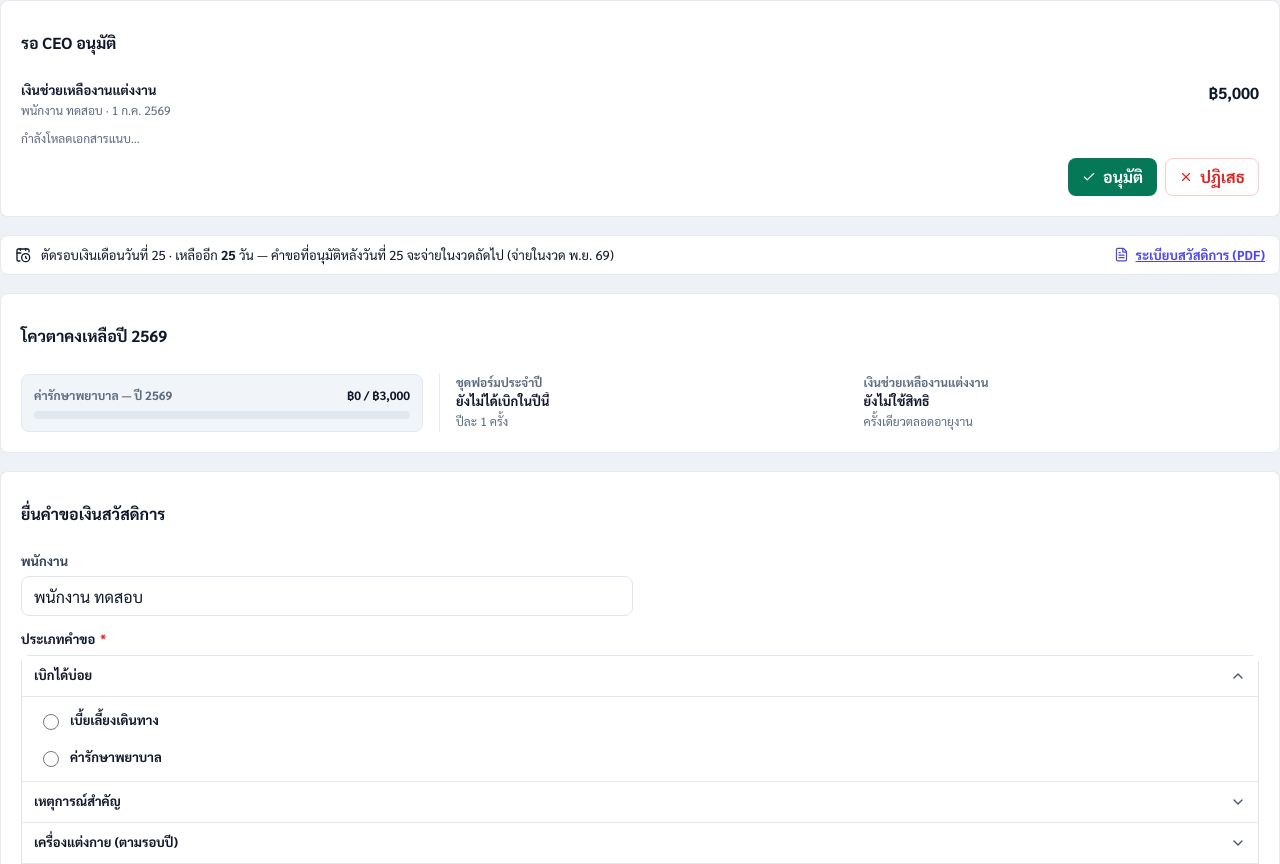
Test: SpecialMoneyPanel › CEO approve dialog › keeps the dialog open with the server error inline on a refused approval, clears it on edit, and succeeds on retry
Click the button with aria-label "CEO อนุมัติ" at (1113, 177), box [1068, 158, 1157, 196]
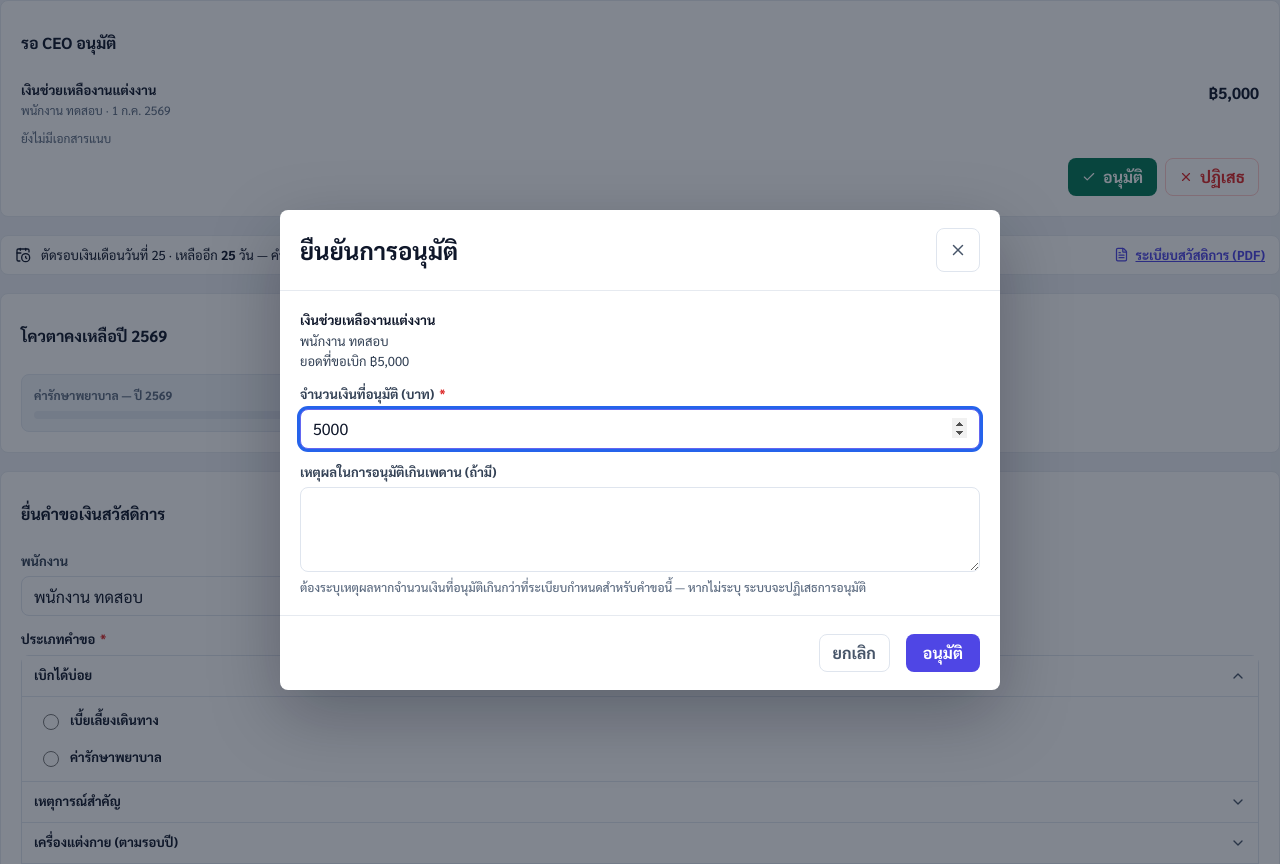
Click the button "อนุมัติ" at (943, 653), box [906, 634, 980, 672]
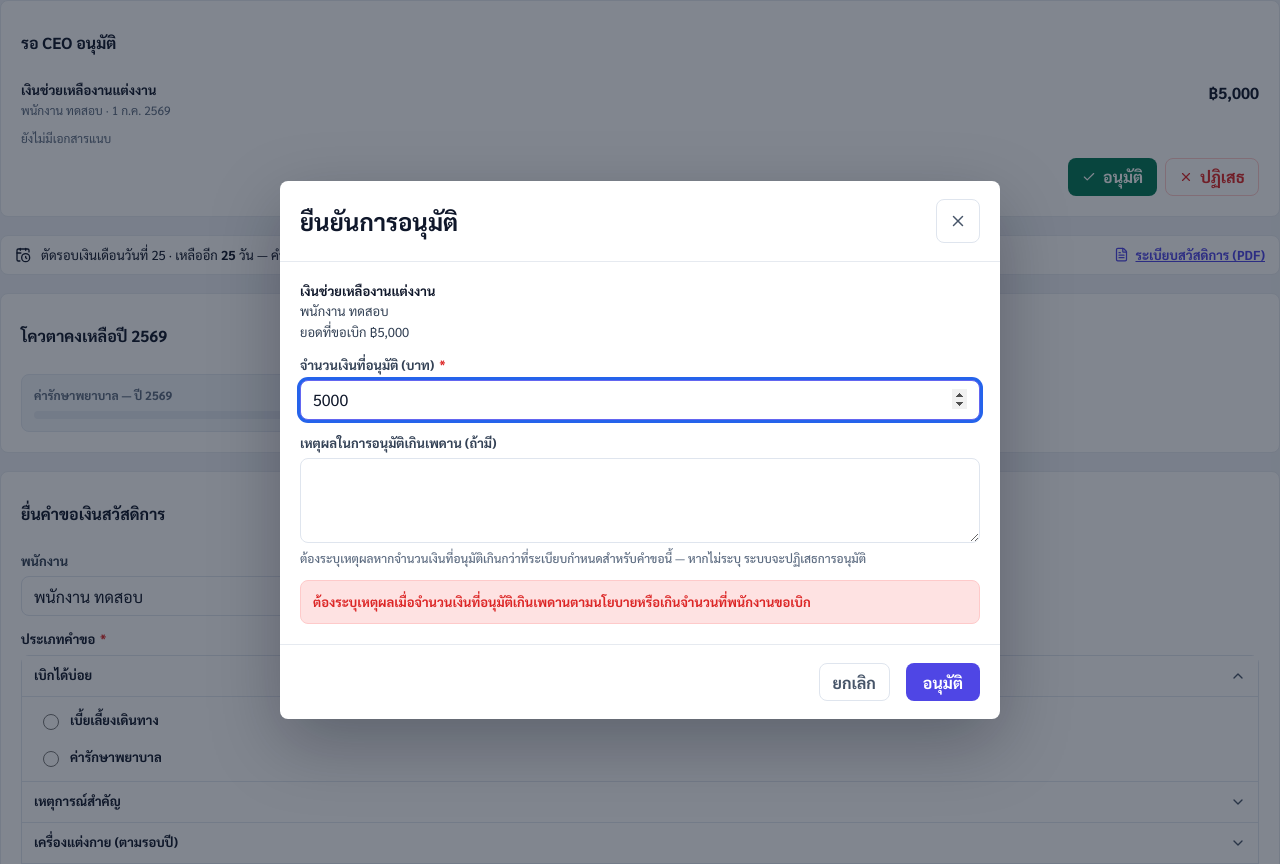
Expected: the number field labelled "จำนวนเงินที่อนุมัติ (บาท) *" holds "5000", [300, 380, 980, 420]
Expected: the text "ต้องระบุเหตุผลเมื่อจำนวนเงินที่อนุมัติเกินเพดานตามนโยบายหรือเกินจำนวนที่พนักงานขอเบิก" is shown, [313, 593, 811, 610]
Type "อนุมัติตามดุลยพินิจ CEO" into the text box labelled "เหตุผลในการอนุมัติเกินเพดาน (ถ้ามี)" at (640, 500), box [300, 458, 980, 543]
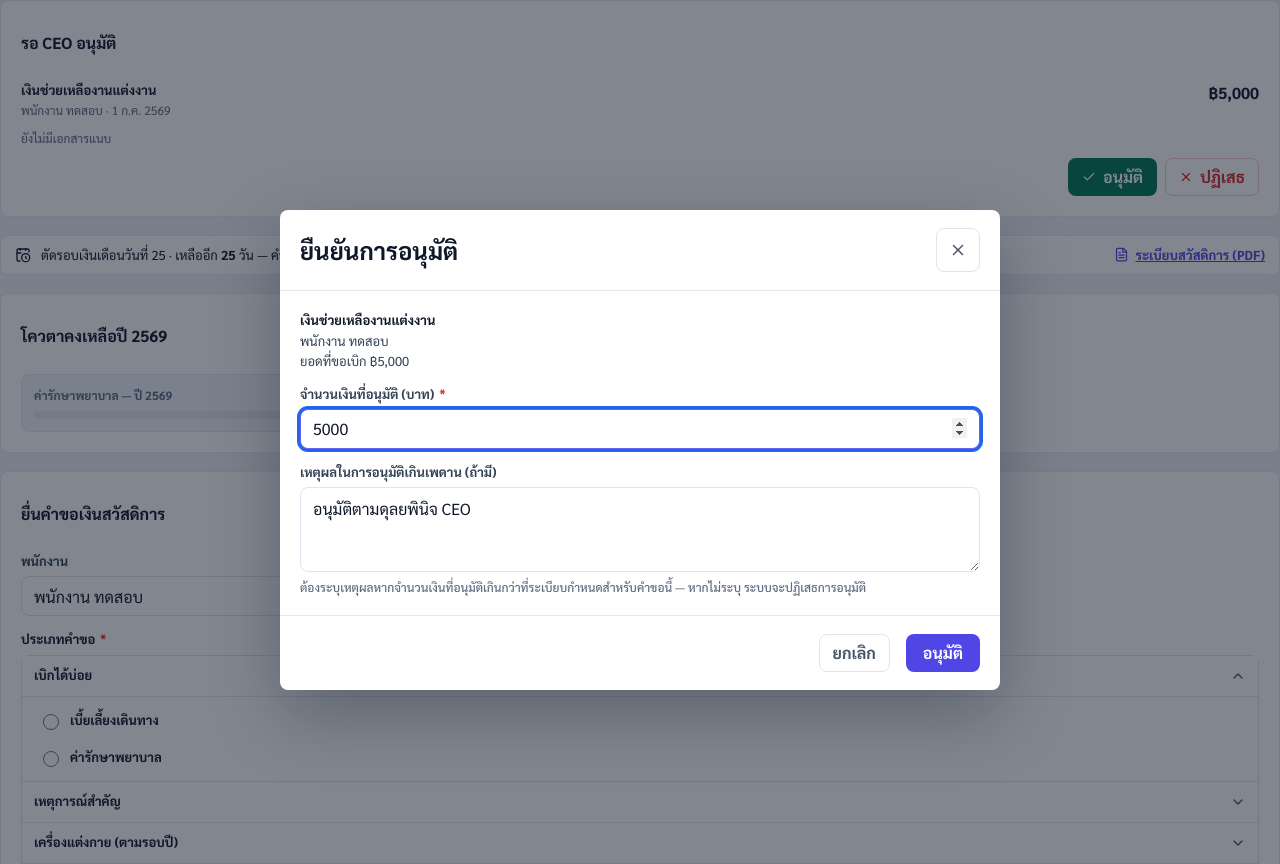
Expected: the text "ต้องระบุเหตุผลเมื่อจำนวนเงินที่อนุมัติเกินเพดานตามนโยบายหรือเกินจำนวนที่พนักงานขอเบิก" is gone
Click the button "อนุมัติ" at (943, 653), box [906, 634, 980, 672]
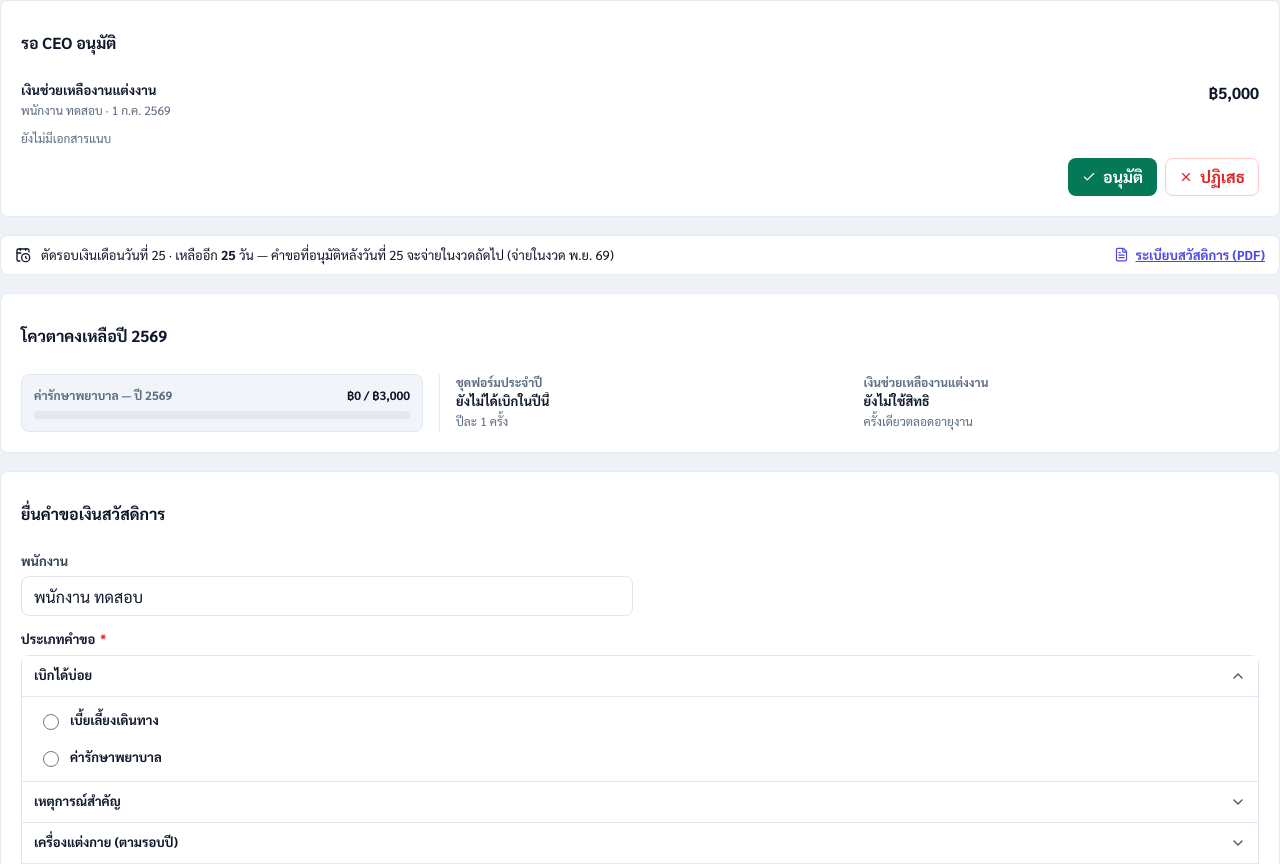
Expected: the heading "ยืนยันการอนุมัติ" is gone
